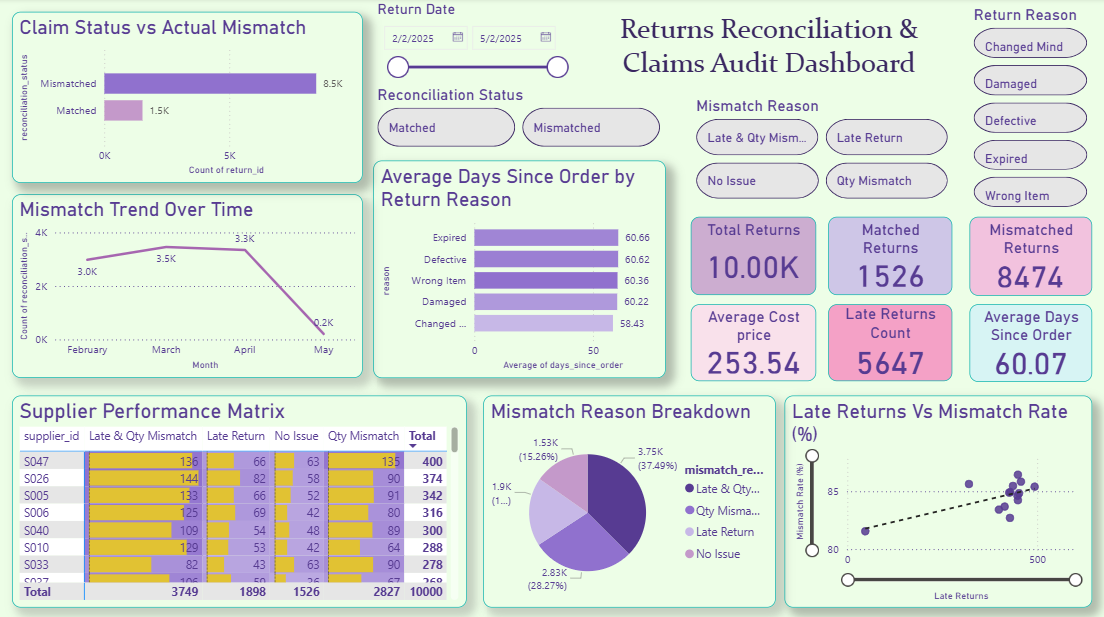

What the dashboard file says about the page in this screenshot:
{"tool":"powerbi","page":{"name":"Returns Reconciliation & Claims Audit Dashboard","canvas":[1280,720],"ordinal":0},"visuals":[{"type":"card","title":"Total Returns","fields":{"Values":["CountNonNull(reconciliation_enriched.return_id)"]},"box":[800.7,253.2,144.5,90.3],"z":0,"group":"g1"},{"type":"card","title":"Matched Returns","fields":{"Values":["CountNonNull(reconciliation_enriched.reconciliation_status)"]},"box":[959.3,253.2,142.9,90.3],"z":1000,"group":"g1"},{"type":"card","title":"Mismatched Returns","fields":{"Values":["CountNonNull(reconciliation_enriched.reconciliation_status)"]},"box":[1122.4,252.9,141.4,91],"z":2000,"group":"g1"},{"type":"card","title":"Late Returns Count","fields":{"Values":["reconciliation_enriched.Late Returns"]},"box":[959.3,353.7,142.9,88.8],"z":3000,"group":"g1"},{"type":"lineChart","title":"Mismatch Trend Over Time","fields":{"Y":["CountNonNull(reconciliation_enriched.reconciliation_status)"],"Category":["reconciliation_enriched.return_date.Variation.Date Hierarchy.Month"]},"box":[17.3,226.1,405.1,212],"z":4000},{"type":"slicer","title":"Return Date","fields":{"Values":["reconciliation_enriched.return_date"]},"box":[434.3,2.9,233.7,98.1],"z":5000},{"type":"pieChart","title":"Mismatch Reason Breakdown","fields":{"Category":["reconciliation_enriched.mismatch_reason"],"Y":["CountNonNull(reconciliation_enriched.return_id)"]},"box":[560.6,458.5,337.6,244.9],"z":6000},{"type":"pivotTable","title":" Supplier Performance Matrix","fields":{"Rows":["reconciliation_enriched.supplier_id"],"Columns":["reconciliation_enriched.mismatch_reason"],"Values":["CountNonNull(reconciliation_enriched.return_id)"]},"box":[17.3,458.5,524.4,244.9],"z":7000},{"type":"card","title":"Average Days Since Order","fields":{"Values":["Avg(reconciliation_enriched.days_since_order)"]},"box":[1122.4,353.3,141.4,89.6],"z":8000,"group":"g1"},{"type":"scatterChart","title":"Late Returns Vs Mismatch Rate (%) ","fields":{"X":["reconciliation_enriched.Late Returns"],"Y":["reconciliation_enriched.Mismatch Rate (%)"],"Category":["reconciliation_enriched.return_week"]},"box":[909.1,458.5,354.9,244.9],"z":9000},{"type":"barChart","title":"Average Days Since Order by Return Reason","fields":{"Category":["reconciliation_enriched.reason"],"Y":["Avg(reconciliation_enriched.days_since_order)"]},"box":[434.3,187.6,337.6,251],"z":10000},{"type":"barChart","title":"Claim Status vs Actual Mismatch","fields":{"Category":["reconciliation_enriched.reconciliation_status"],"Y":["CountNonNull(reconciliation_enriched.return_id)"]},"box":[17.3,15.7,405.1,197.8],"z":11000},{"type":"card","title":"Average Cost price","fields":{"Values":["Avg(reconciliation_enriched.cost_price)"]},"box":[800.7,353.7,144.5,88.8],"z":12000,"group":"g1"},{"type":"advancedSlicerVisual","title":"Reconciliation Status","fields":{"Values":["reconciliation_enriched.reconciliation_status"]},"box":[434.3,101,337.6,76.5],"z":13000},{"type":"advancedSlicerVisual","title":"Return Reason","fields":{"Values":["reconciliation_enriched.reason"]},"box":[1122.5,8.7,141.4,239.5],"z":13001},{"type":"group","id":"g1","title":"Group 1","box":[800.7,252.9,463.1,190],"z":13002},{"type":"advancedSlicerVisual","title":"Mismatch Reason","fields":{"Values":["reconciliation_enriched.mismatch_reason"]},"box":[802.2,114,300.1,124.1],"z":13003},{"type":"textbox","title":"Returns Reconciliation & Claims Audit Dashboard","box":[679.5,15.9,422.7,119.7],"z":13004}]}

Visuals, with their boxes in screenshot pixels (x1, y1, x2, y2), scaled from the page's 1280x720 canvas onto the 1104x617 screenshot:
"Total Returns" card: x1=691 y1=217 x2=815 y2=294
"Matched Returns" card: x1=827 y1=217 x2=951 y2=294
"Mismatched Returns" card: x1=968 y1=217 x2=1090 y2=295
"Late Returns Count" card: x1=827 y1=303 x2=951 y2=379
"Mismatch Trend Over Time" lineChart: x1=15 y1=194 x2=364 y2=375
"Return Date" slicer: x1=375 y1=2 x2=576 y2=87
"Mismatch Reason Breakdown" pieChart: x1=484 y1=393 x2=775 y2=603
" Supplier Performance Matrix" pivotTable: x1=15 y1=393 x2=467 y2=603
"Average Days Since Order" card: x1=968 y1=303 x2=1090 y2=380
"Late Returns Vs Mismatch Rate (%) " scatterChart: x1=784 y1=393 x2=1090 y2=603
"Average Days Since Order by Return Reason" barChart: x1=375 y1=161 x2=666 y2=376
"Claim Status vs Actual Mismatch" barChart: x1=15 y1=13 x2=364 y2=183
"Average Cost price" card: x1=691 y1=303 x2=815 y2=379
"Reconciliation Status" advancedSlicerVisual: x1=375 y1=87 x2=666 y2=152
"Return Reason" advancedSlicerVisual: x1=968 y1=7 x2=1090 y2=213
"Group 1" group: x1=691 y1=217 x2=1090 y2=380
"Mismatch Reason" advancedSlicerVisual: x1=692 y1=98 x2=951 y2=204
"Returns Reconciliation & Claims Audit Dashboard" textbox: x1=586 y1=14 x2=951 y2=116
